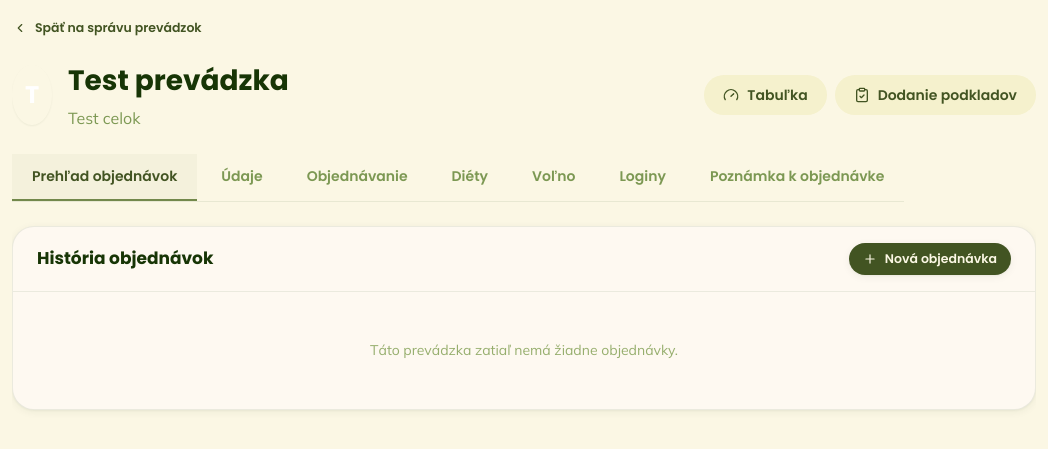
ClientDetail facility & login management › renders only logins scoped to this facility
Click the button "Loginy" at point(643, 178), box [599,154,686,201]
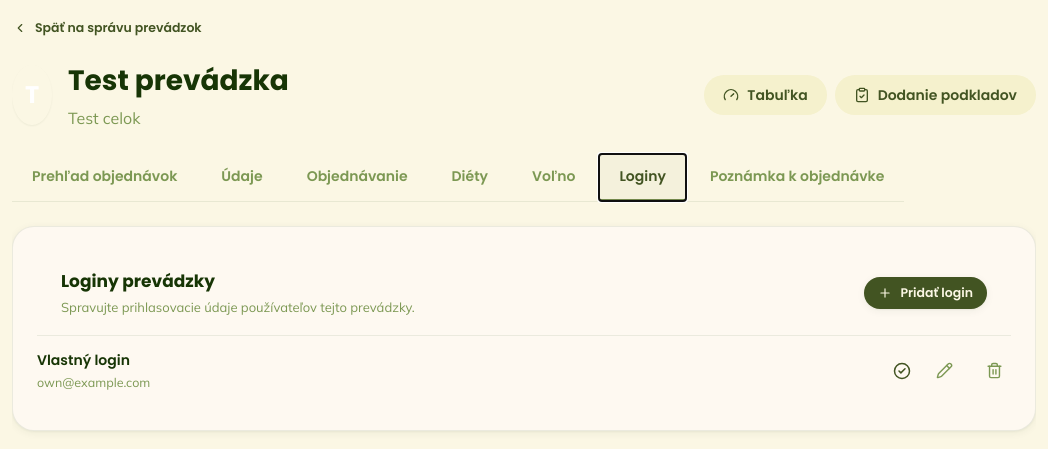
Check: the text "own@example.com" is shown, box [37,374,150,390]
